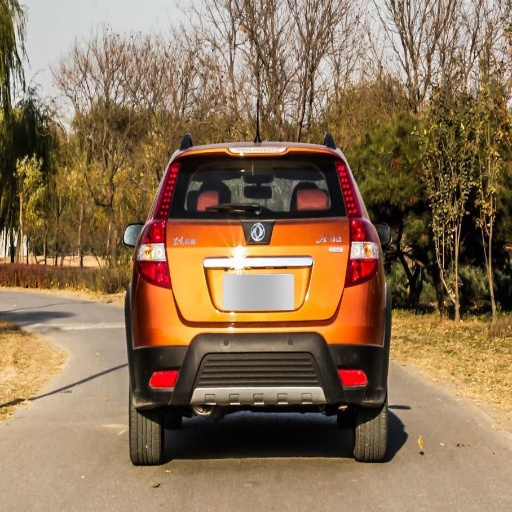back_bumper: (132, 265, 382, 413)
tailgate: (165, 217, 297, 320)
trunk: (192, 209, 349, 325)
